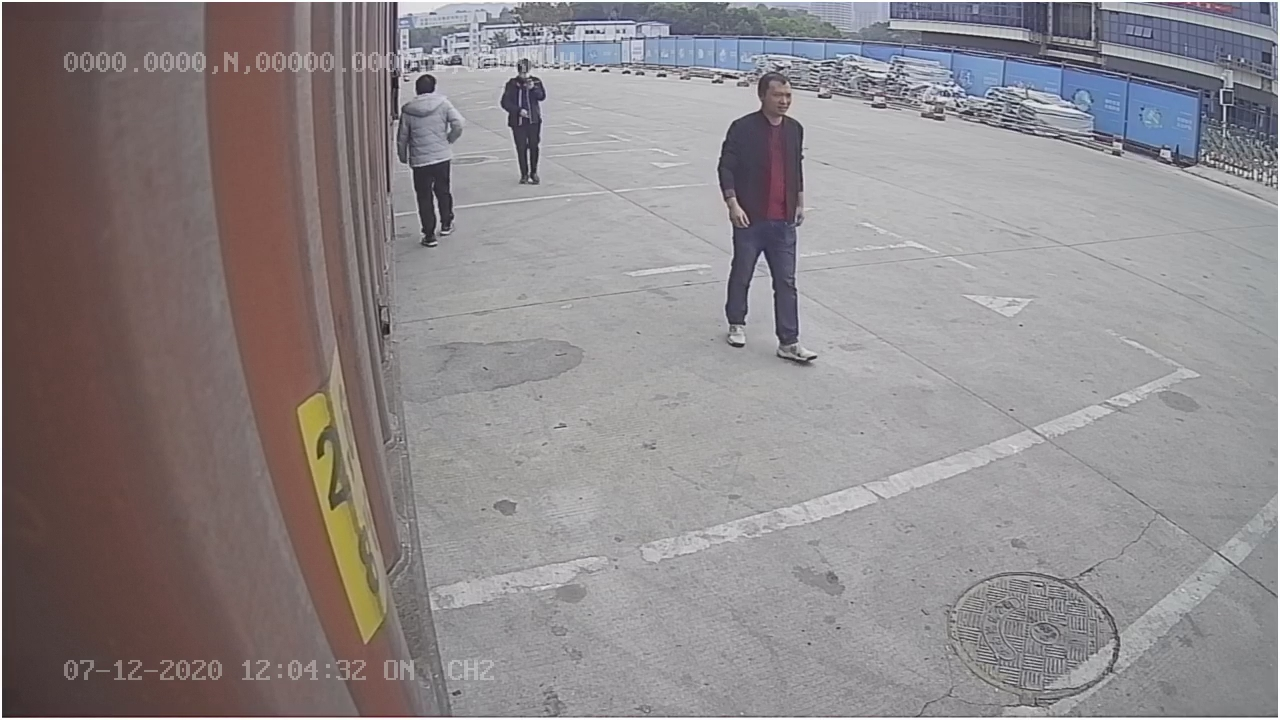person: (714, 71, 825, 362)
